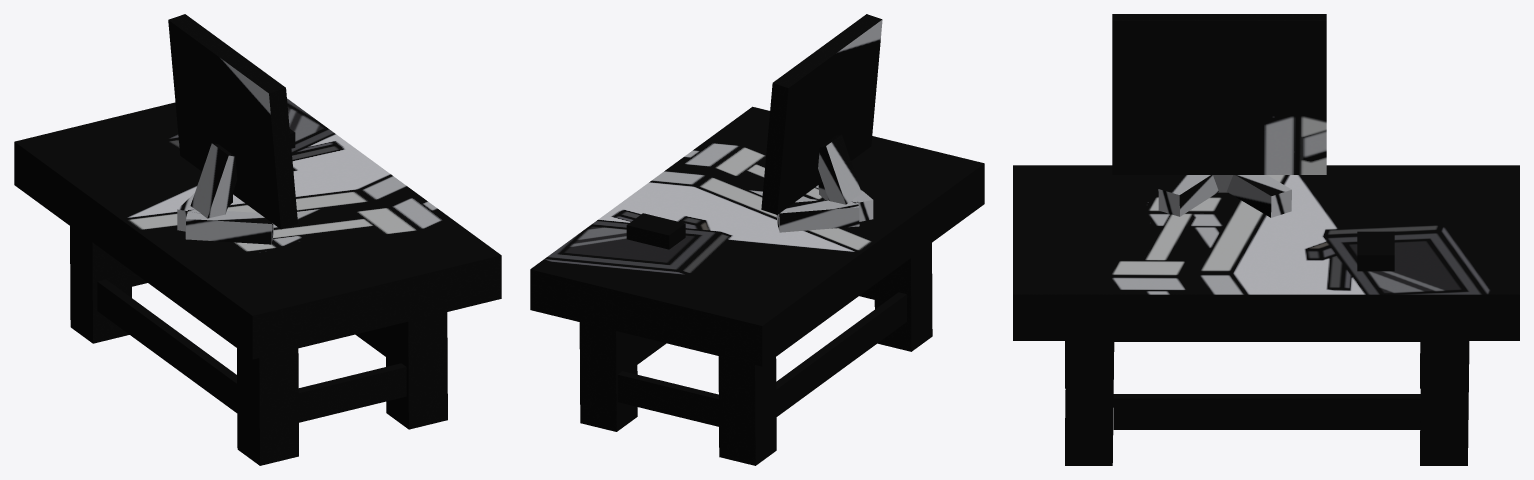
File: ComputerTable.fbx
3 views of the same model, side by side, from view 1: azimuth 30°, elevation 25°; view 2: azimuth 150°, elevation 25°; view 3: azimuth 270°, elevation 25° (orthographic). The views are drawn at different scales.
Parts seen in each view (by area): view 1: ComputerTable; view 2: ComputerTable; view 3: ComputerTable.
Part boxes in pixels (x1,y1,x2,y2): ComputerTable: (14,14,501,465); ComputerTable: (530,14,984,465); ComputerTable: (1013,14,1519,465).
Bounding box in the file's own units: 147 × 197 × 243.
